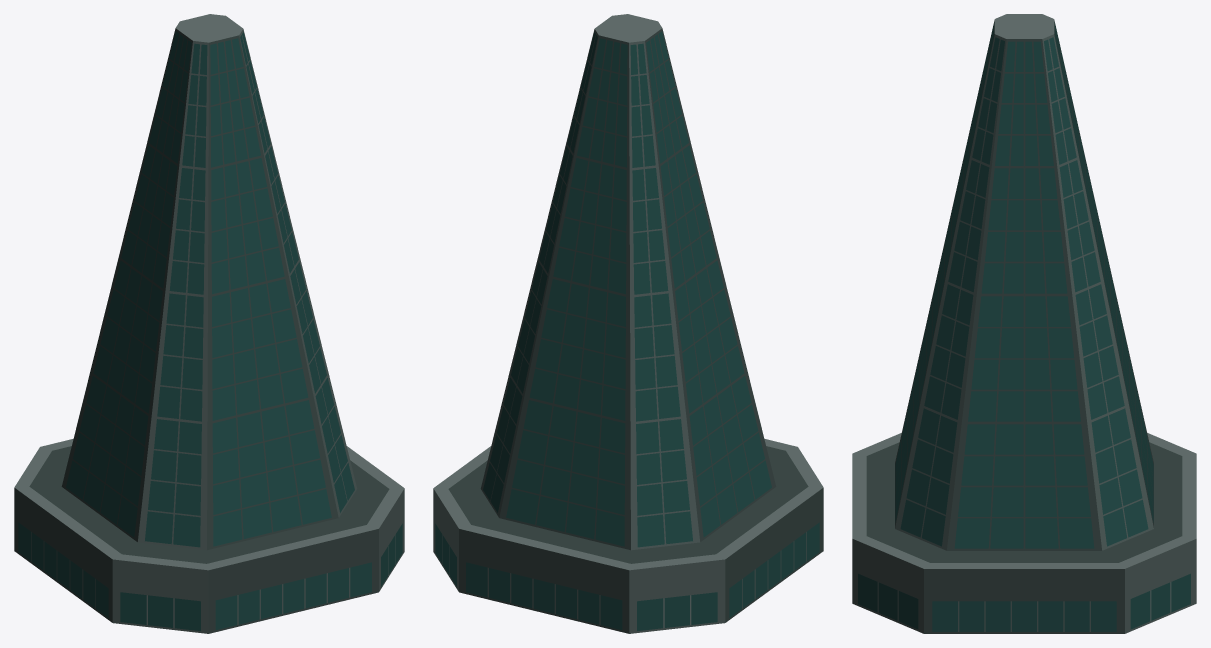
File: TB_CITY_Skysc_R_Top_Green.FBX
3 renders of one model, left to right at view 1: azimuth 30°, elevation 25°; view 2: azimuth 150°, elevation 25°; view 3: azimuth 270°, elevation 25°, orthographic. The views are drawn at different scales.
Parts seen in each view (by area): view 1: TB_CITY_Skysc_R_Top_Green; view 2: TB_CITY_Skysc_R_Top_Green; view 3: TB_CITY_Skysc_R_Top_Green.
Part boxes in pixels (x1=…): TB_CITY_Skysc_R_Top_Green: x1=14, y1=14, x2=404, y2=633; TB_CITY_Skysc_R_Top_Green: x1=433, y1=14, x2=823, y2=633; TB_CITY_Skysc_R_Top_Green: x1=852, y1=14, x2=1196, y2=633.
Bounding box in the file's own units: 13.3 × 22.76 × 13.3.
